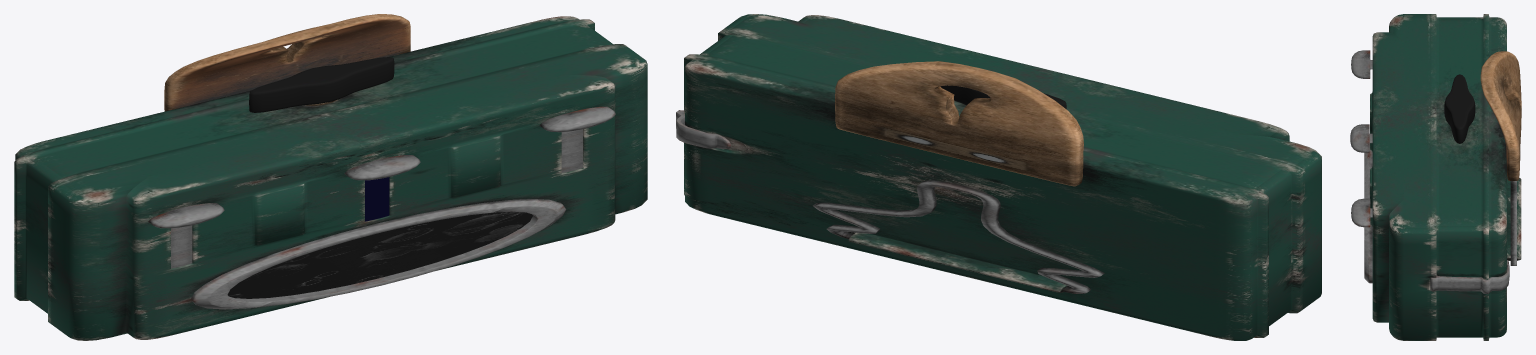
The model's file is SM_UVLight.fbx.
3 renders of one model, left to right at view 1: azimuth 30°, elevation 25°; view 2: azimuth 150°, elevation 25°; view 3: azimuth 270°, elevation 25°, orthographic. The views are drawn at different scales.
Parts seen in each view (by area): view 1: SM_UVLight; view 2: SM_UVLight; view 3: SM_UVLight.
Part boxes in pixels (x1,y1,x2,y2): SM_UVLight: (14,14,647,340); SM_UVLight: (676,14,1321,340); SM_UVLight: (1350,14,1521,340).
Size of the model in its own units: 6.5 by 20 by 6.5.
